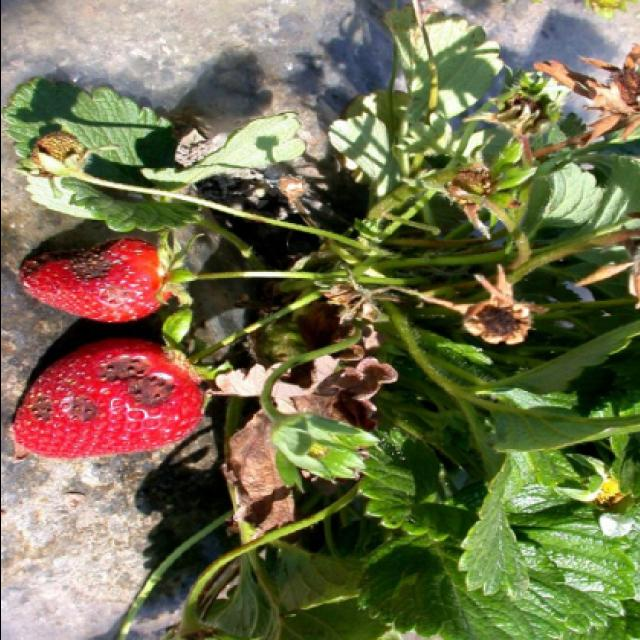Anthracnose Fruit Rot: (26, 350, 176, 425), (18, 237, 130, 317)
